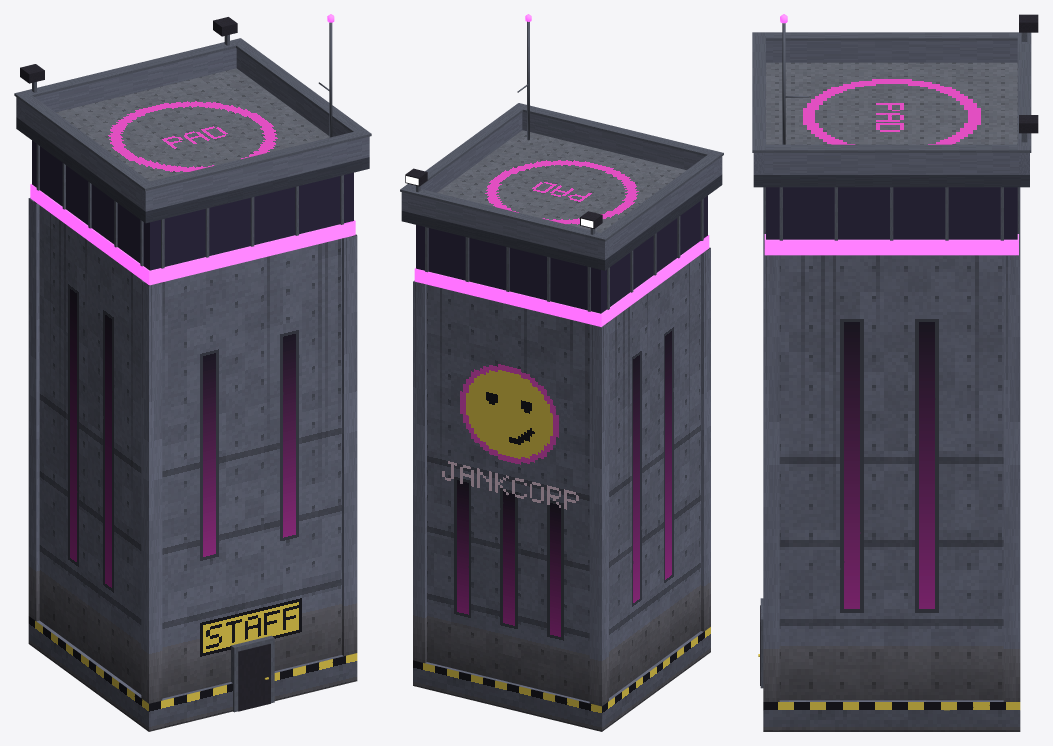
File: p_jb_tower.glb
The picture shows the model from 3 angles, left to right: view 1: azimuth 30°, elevation 25°; view 2: azimuth 150°, elevation 25°; view 3: azimuth 270°, elevation 25°; orthographic projection. The views are drawn at different scales.
Visible parts, largest first — view 1: p_jb_tower_lod0; view 2: p_jb_tower_lod0; view 3: p_jb_tower_lod0.
Part boxes in pixels (<box>): p_jb_tower_lod0: <box>14,14,371,731</box>; p_jb_tower_lod0: <box>400,14,723,731</box>; p_jb_tower_lod0: <box>752,14,1038,731</box>.
Size of what is drawn, in the model's own units: 10.1 by 28.3 by 10.37.
4 materials, 1 textured.
